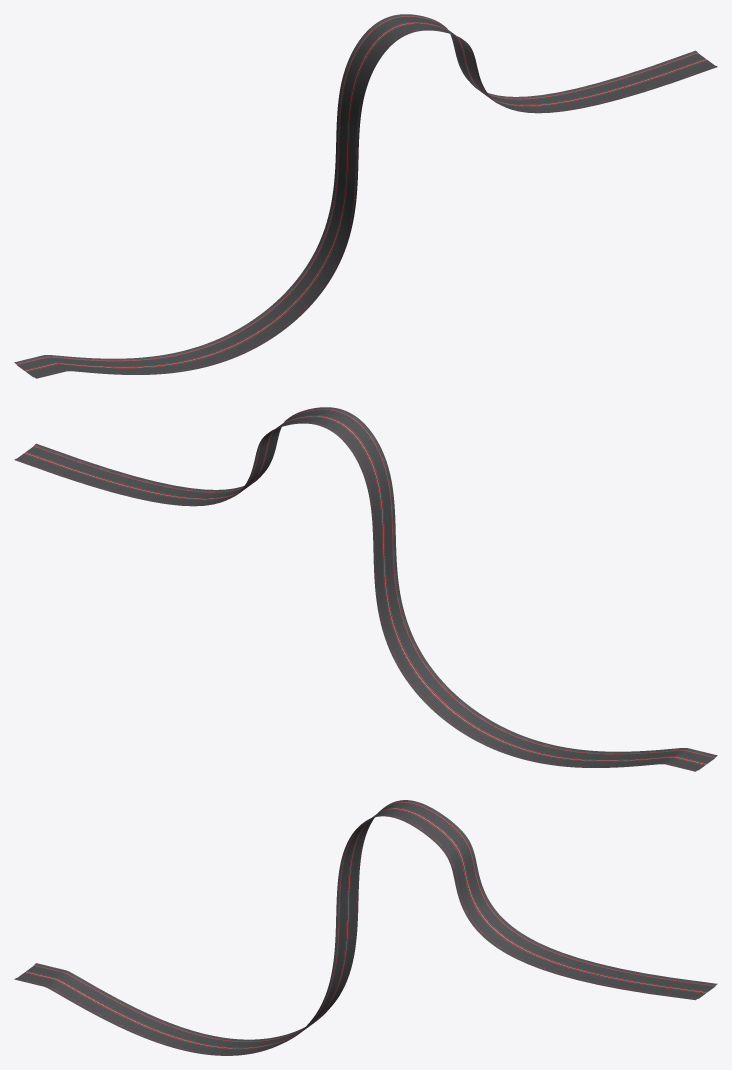
The model's file is rampa_sinuosa.fbx.
The picture shows the model from 3 angles, top to bottom: view 1: azimuth 30°, elevation 25°; view 2: azimuth 150°, elevation 25°; view 3: azimuth 330°, elevation 25°; orthographic projection.
Visible parts, largest first — view 1: Road; view 2: Road; view 3: Road.
Part boxes in pixels (<box>): Road: <box>14,14,717,378</box>; Road: <box>14,407,717,771</box>; Road: <box>14,800,717,1055</box>.
Bounding box in the file's own units: 31106 × 12418 × 1767.
1 material, 1 textured.
